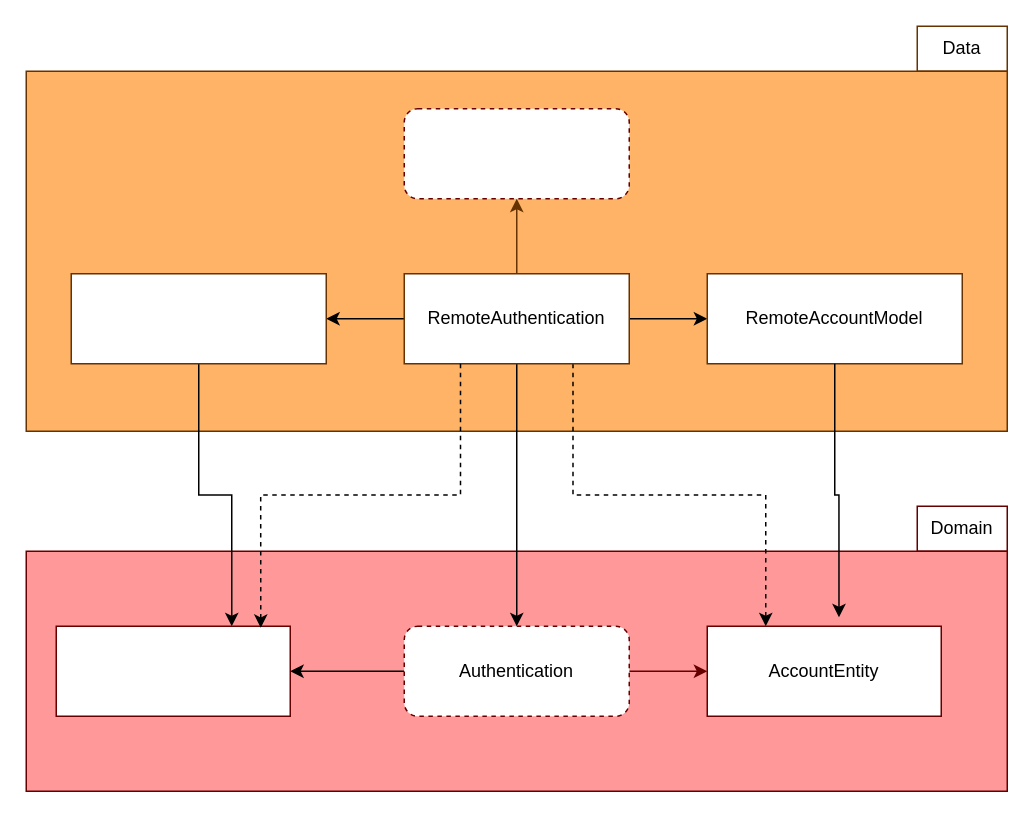
This 1034x818 diagram has some shape labels left out. The shapes that lost their labels are listed below. From the top down, each one's box as (x1, y1, x2, y2) in pixels, then its label:
(403, 107, 629, 199): HttpClient
(70, 272, 326, 364): RemoteAuthenticationParans
(55, 625, 290, 716): AuthenticationParams
